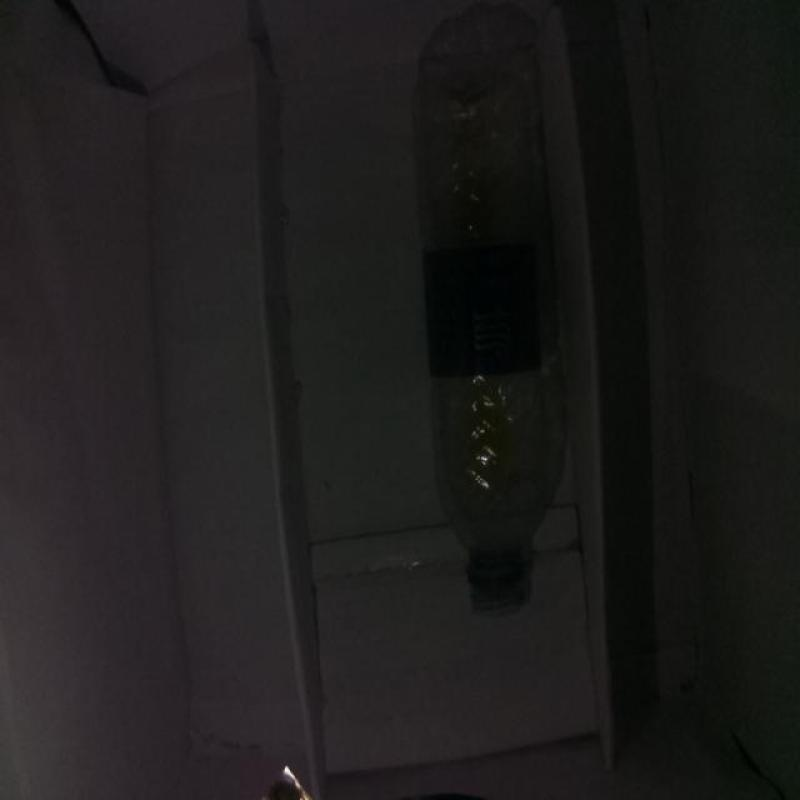botella: (415, 0, 566, 618)
